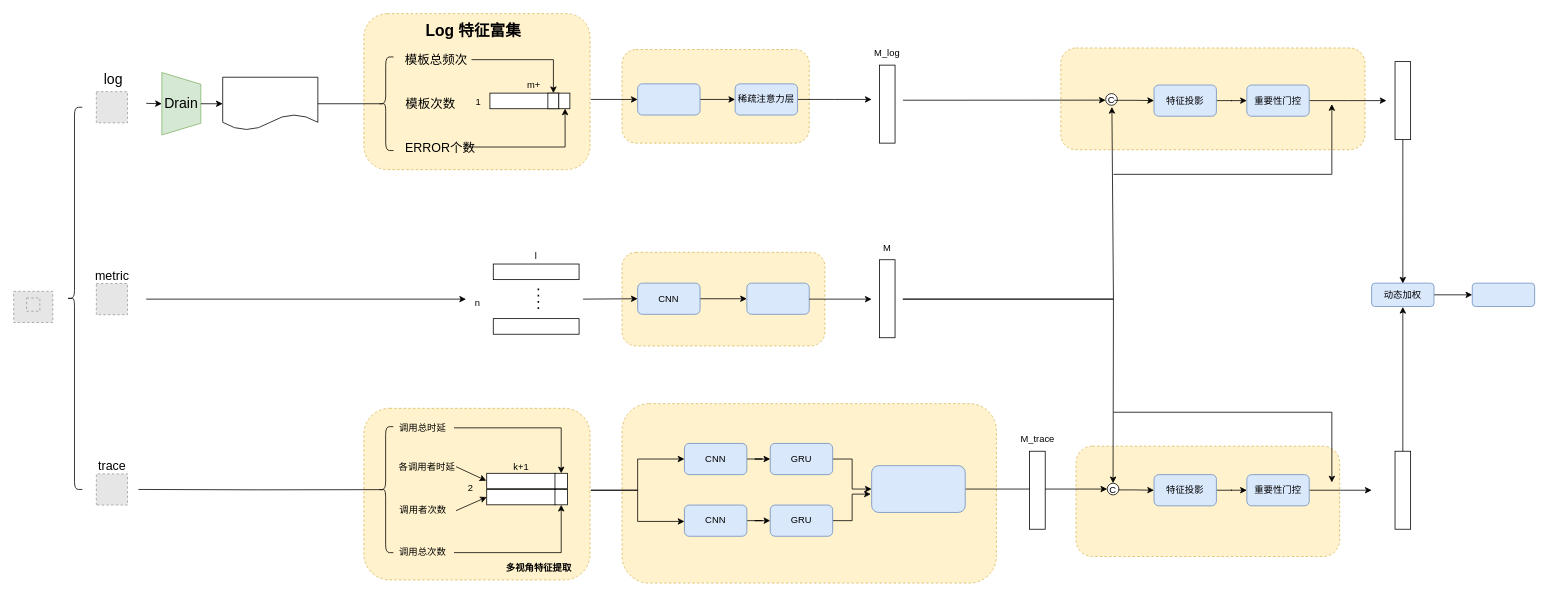
The diagram is 1548 pixels wide and 597 high, and some of its shapes have lost their labels. Grey dashed boxes stand in for pictures. The shapes that lost their labels are listed below. From the top down, each one's centre as x and y in pixels, then its label:
point 270,103: log结构化 数据
point 668,99: 全连接层
point 777,298: 多头自注意力
point 1503,294: MLP
point 918,488: 融合
